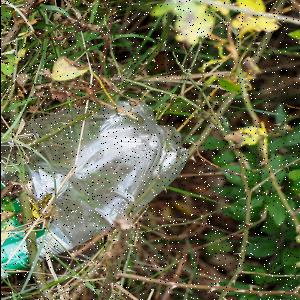Plastic-bottle: (2, 100, 190, 280)
